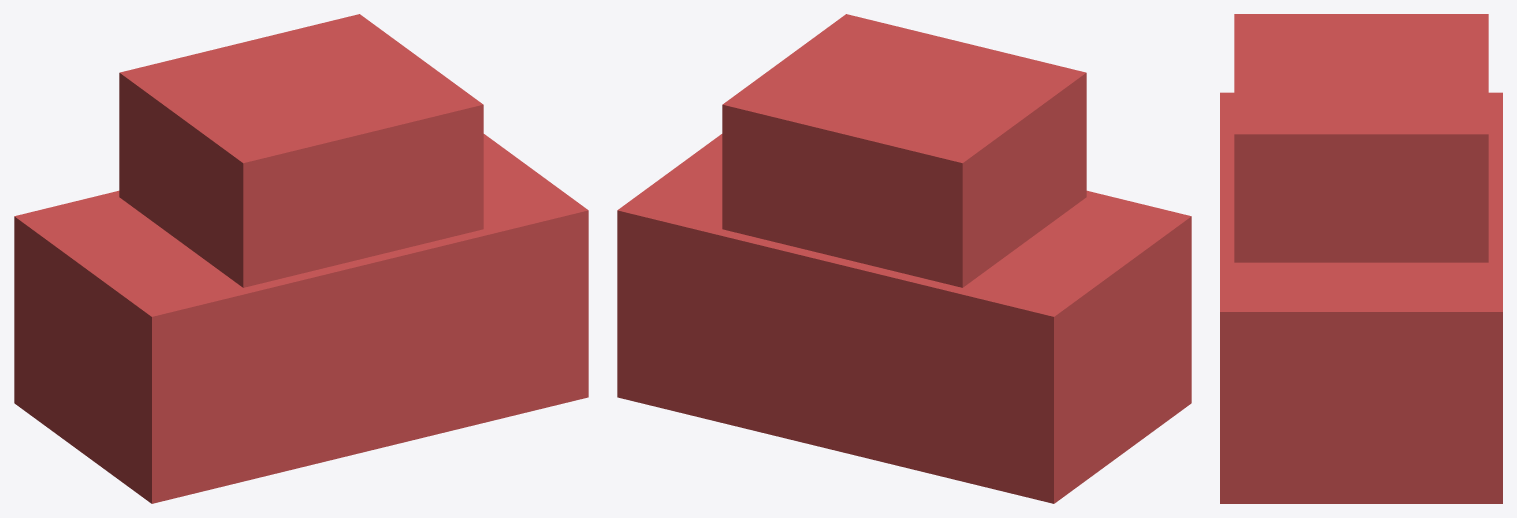
File: parked_car_fractured.fbx
3 views of the same model, side by side, from view 1: azimuth 30°, elevation 25°; view 2: azimuth 150°, elevation 25°; view 3: azimuth 270°, elevation 25° (orthographic). The views are drawn at different scales.
Parts seen in each view (by area): view 1: ParkedCar_cell_000, ParkedCar_cell_002, ParkedCar_cell_003, ParkedCar_cell_007, ParkedCar_cell_001, ParkedCar_cell_006, ParkedCar_cell_004, ParkedCar_cell_005, ParkedCar_cell_011; view 2: ParkedCar_cell_000, ParkedCar_cell_006, ParkedCar_cell_001, ParkedCar_cell_007, ParkedCar_cell_005, ParkedCar_cell_008, ParkedCar_cell_011, ParkedCar_cell_010, ParkedCar_cell_009, ParkedCar_cell_003; view 3: ParkedCar_cell_007, ParkedCar_cell_002, ParkedCar_cell_010, ParkedCar_cell_011, ParkedCar_cell_000, ParkedCar_cell_001, ParkedCar_cell_006, ParkedCar_cell_009.
Part boxes in pixels (box(x1,y1,x2,y2)): ParkedCar_cell_000: box(62, 46, 338, 367); ParkedCar_cell_002: box(380, 173, 588, 437); ParkedCar_cell_003: box(110, 325, 329, 503); ParkedCar_cell_007: box(309, 14, 514, 211); ParkedCar_cell_001: box(229, 26, 398, 329); ParkedCar_cell_006: box(14, 182, 146, 368); ParkedCar_cell_004: box(319, 300, 423, 462); ParkedCar_cell_005: box(14, 341, 115, 472); ParkedCar_cell_011: box(483, 156, 536, 193); ParkedCar_cell_000: box(853, 49, 1191, 281); ParkedCar_cell_006: box(901, 267, 1157, 441); ParkedCar_cell_001: box(733, 42, 990, 339); ParkedCar_cell_007: box(617, 14, 962, 245); ParkedCar_cell_005: box(878, 321, 1155, 503); ParkedCar_cell_008: box(708, 285, 871, 459); ParkedCar_cell_011: box(617, 147, 739, 344); ParkedCar_cell_010: box(617, 283, 721, 419); ParkedCar_cell_009: box(855, 255, 945, 460); ParkedCar_cell_003: box(1150, 267, 1191, 433); ParkedCar_cell_007: box(1234, 75, 1502, 331); ParkedCar_cell_002: box(1220, 213, 1381, 503); ParkedCar_cell_010: box(1342, 369, 1502, 503); ParkedCar_cell_011: box(1292, 239, 1502, 386); ParkedCar_cell_000: box(1220, 14, 1488, 184); ParkedCar_cell_001: box(1220, 62, 1502, 249); ParkedCar_cell_006: box(1488, 92, 1502, 153); ParkedCar_cell_009: box(1488, 152, 1502, 192).
Size of the model in its own units: 2.2 by 1.5 by 1.2.
